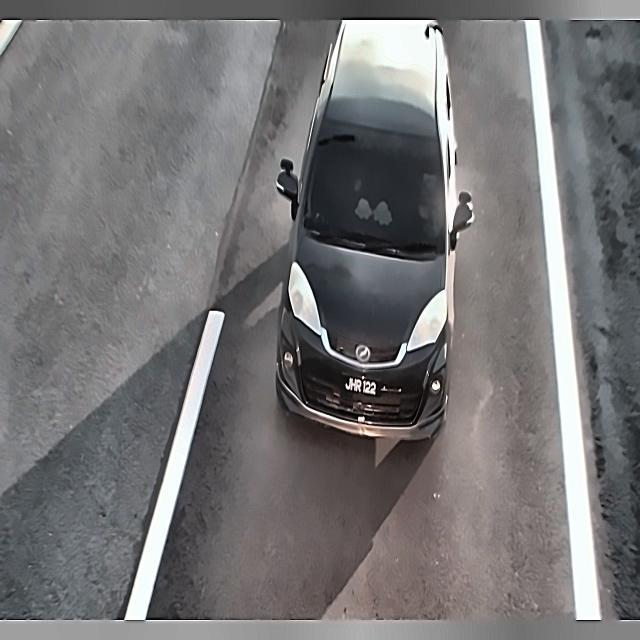car: (333, 370, 391, 406)
